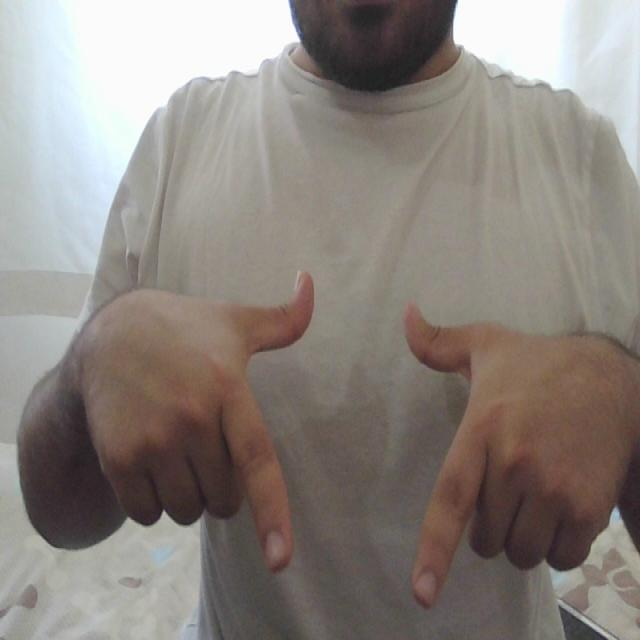Nerede: (207, 259, 511, 623)
